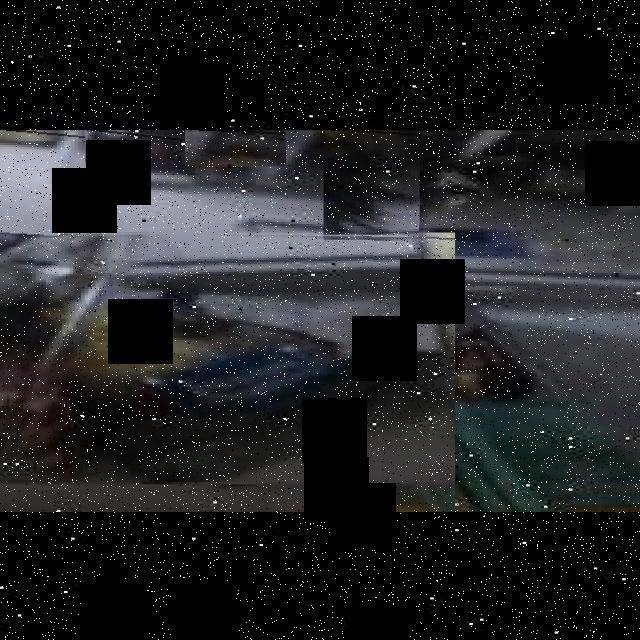egg: (0, 239, 50, 277), (0, 217, 60, 247), (0, 273, 46, 299)
grated_cheese: (0, 231, 455, 482)
humus: (187, 128, 286, 164), (86, 128, 182, 160)
mayonaise: (0, 128, 85, 141)
pineapple: (324, 128, 419, 233)
